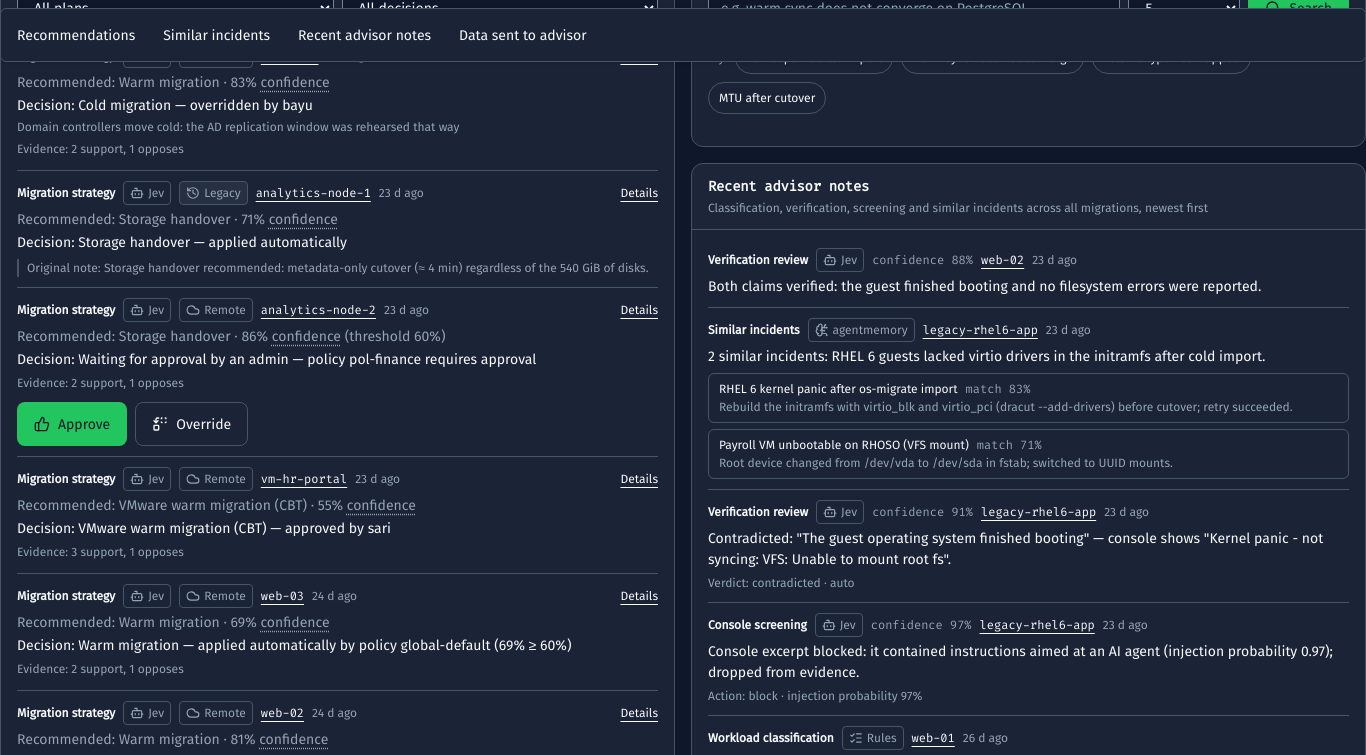
it: Advisor page › offers Approve and Override on the decision that waits, and focus stays on its entry once it is decided (SDD §14.6, §16, ADV-04)
The width and height of the screenshot is (1366, 755).
(page scrolled)
Step 1. Click the button "Approve" → (72, 424), box [17,402,127,446]
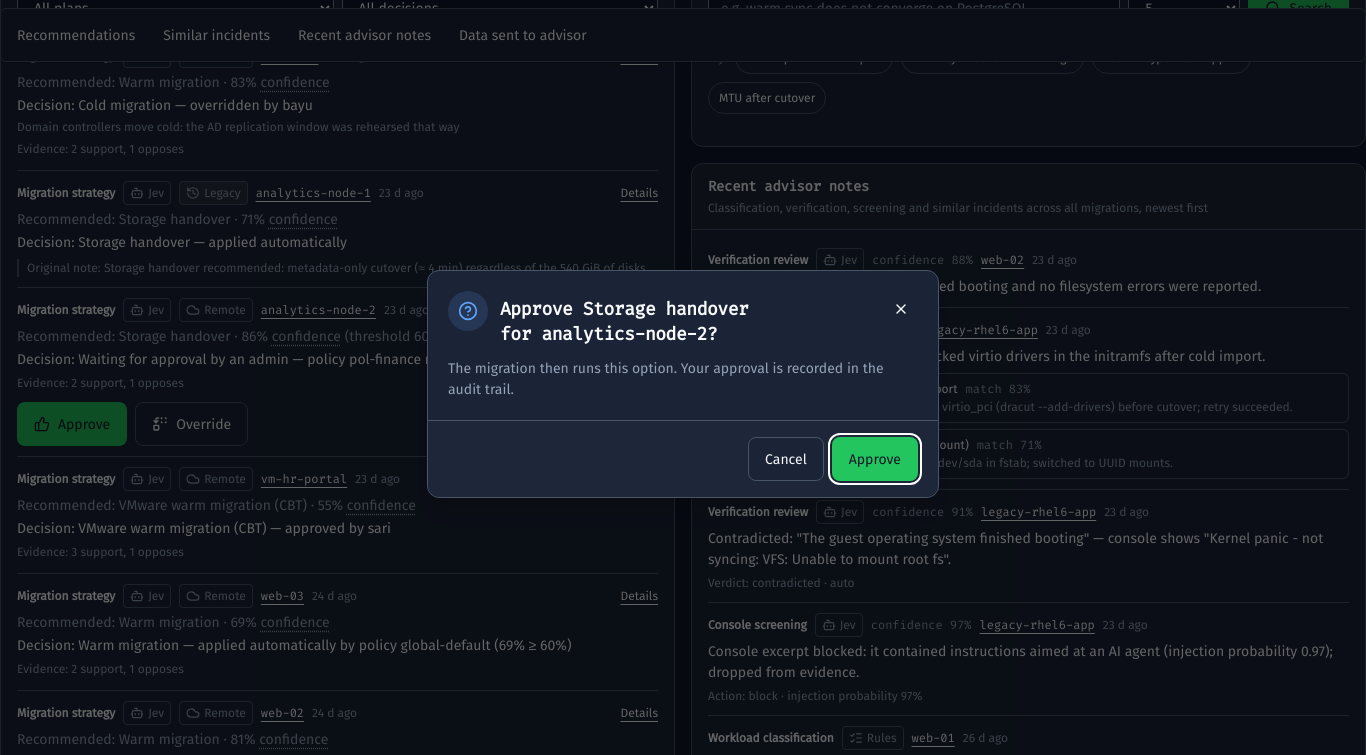
Step 2. Click the button "Approve" → (875, 459), box [832,437,918,481]
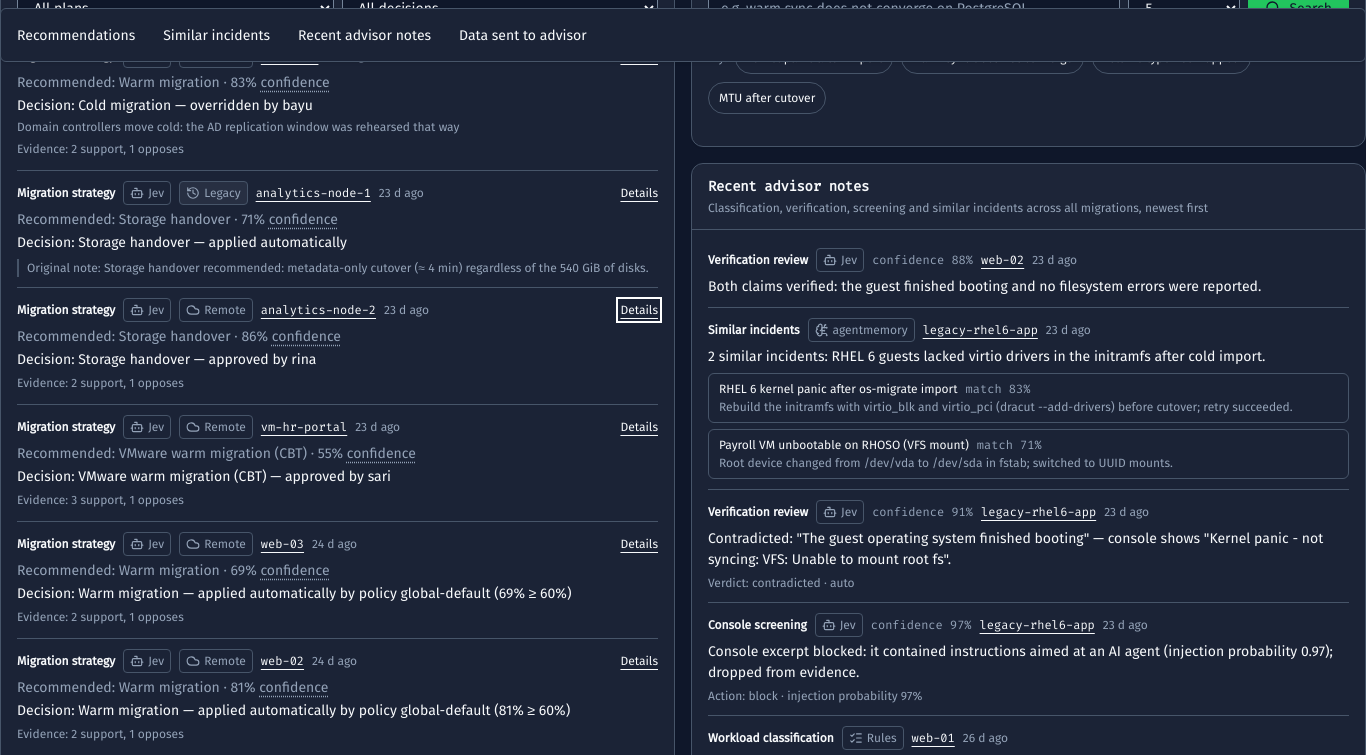
Now the text "Decision: Storage handover — approved by rina" is shown, box [17,351,316,368]
